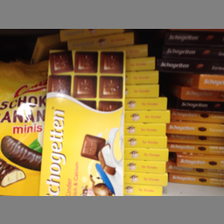chocolate: (40, 49, 124, 196), (2, 61, 46, 196)
